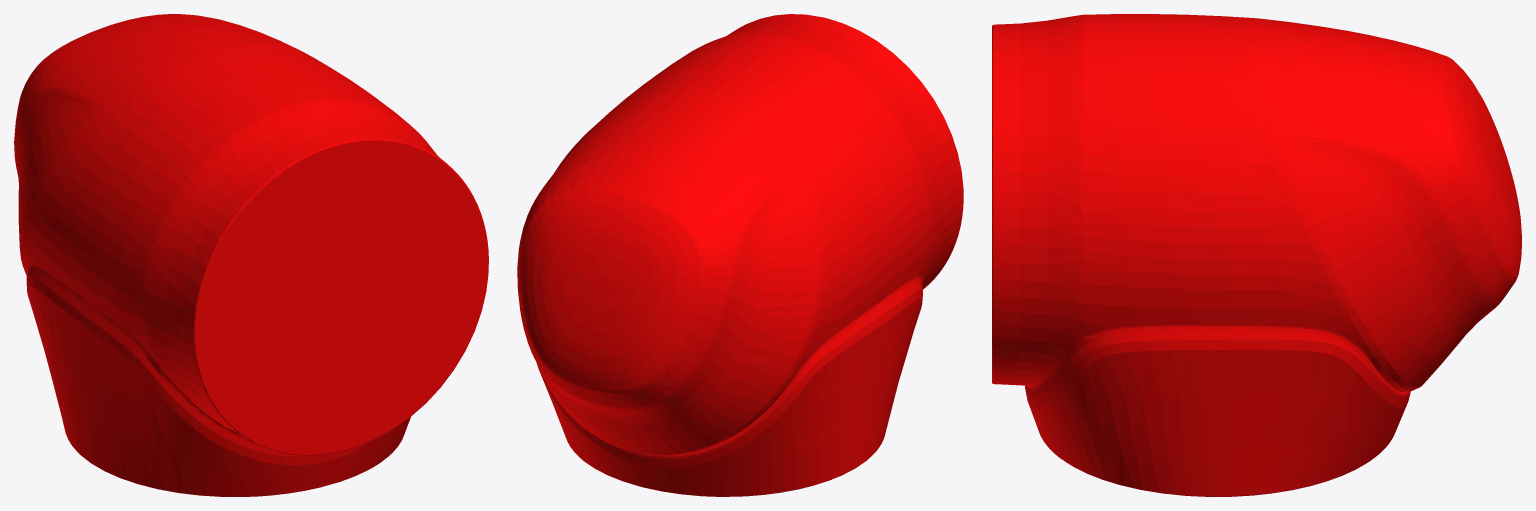
The picture shows the model from 3 angles, left to right: view 1: azimuth 30°, elevation 25°; view 2: azimuth 150°, elevation 25°; view 3: azimuth 270°, elevation 25°; orthographic projection. The views are drawn at different scales.
Visible parts, largest first — view 1: H2017_4_1; view 2: H2017_4_1; view 3: H2017_4_1.
Boxes of the visible parts, bbox=[...] form: H2017_4_1: bbox=[14, 14, 488, 496]; H2017_4_1: bbox=[517, 14, 963, 496]; H2017_4_1: bbox=[992, 14, 1521, 496].
Size of the model in its own units: 143 by 193 by 156.
